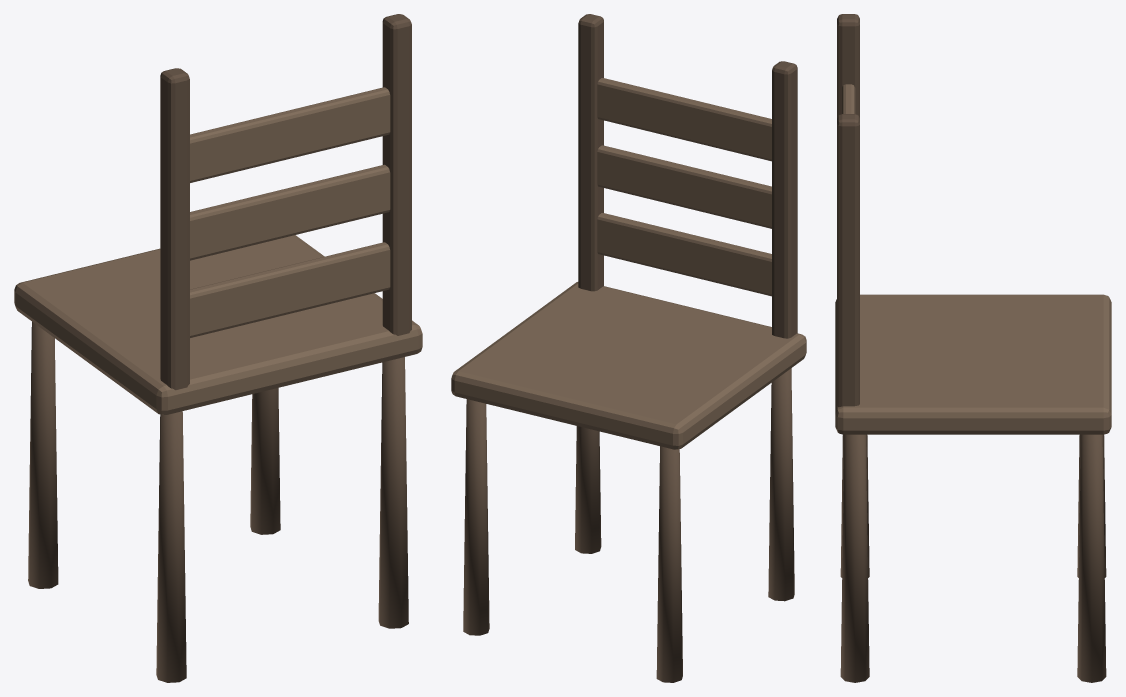
File: chair.glb
The picture shows the model from 3 angles, left to right: view 1: azimuth 30°, elevation 25°; view 2: azimuth 150°, elevation 25°; view 3: azimuth 270°, elevation 25°; orthographic projection. The views are drawn at different scales.
Parts seen in each view (by area): view 1: chair; view 2: chair; view 3: chair.
Part boxes in pixels (<box>): chair: <box>14,14,422,682</box>; chair: <box>451,14,806,682</box>; chair: <box>835,14,1111,682</box>.
Bounding box in the file's own units: 0.43 × 0.94 × 0.42.
